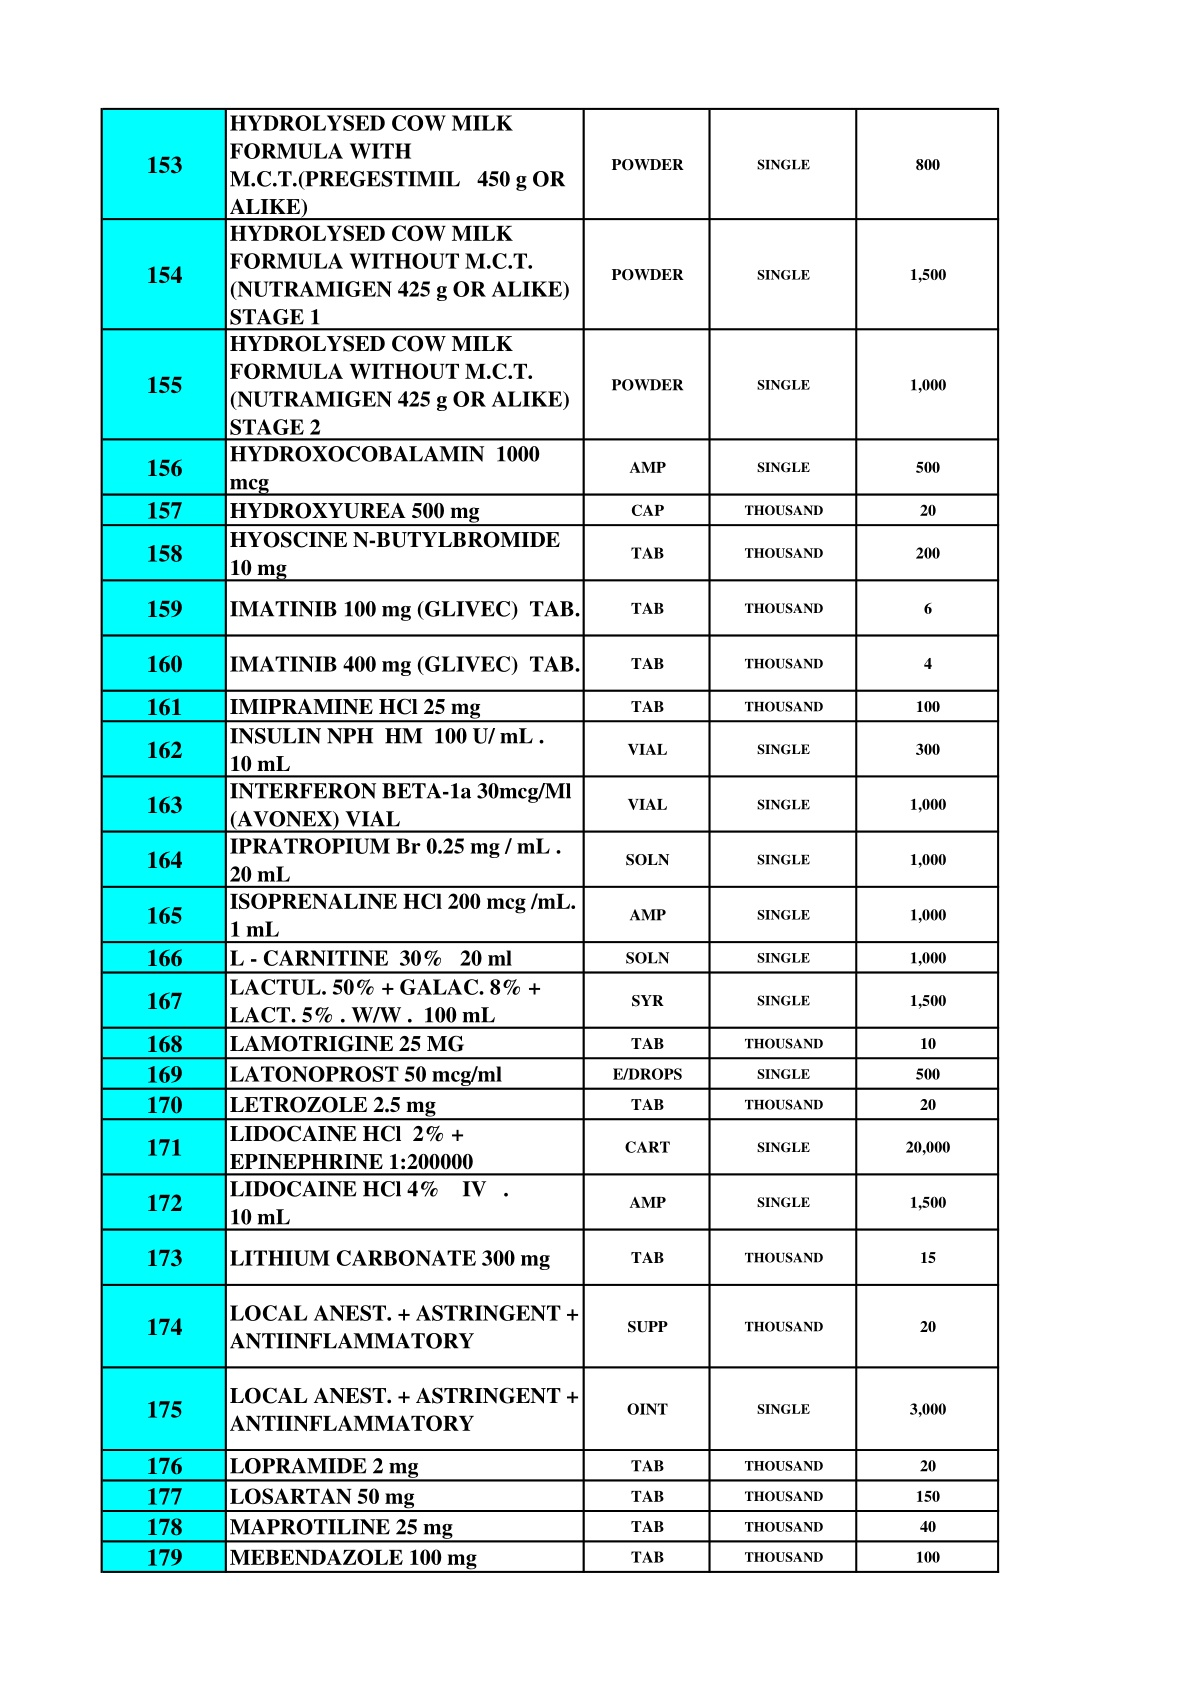full_lined: (98, 107, 1000, 1574)
